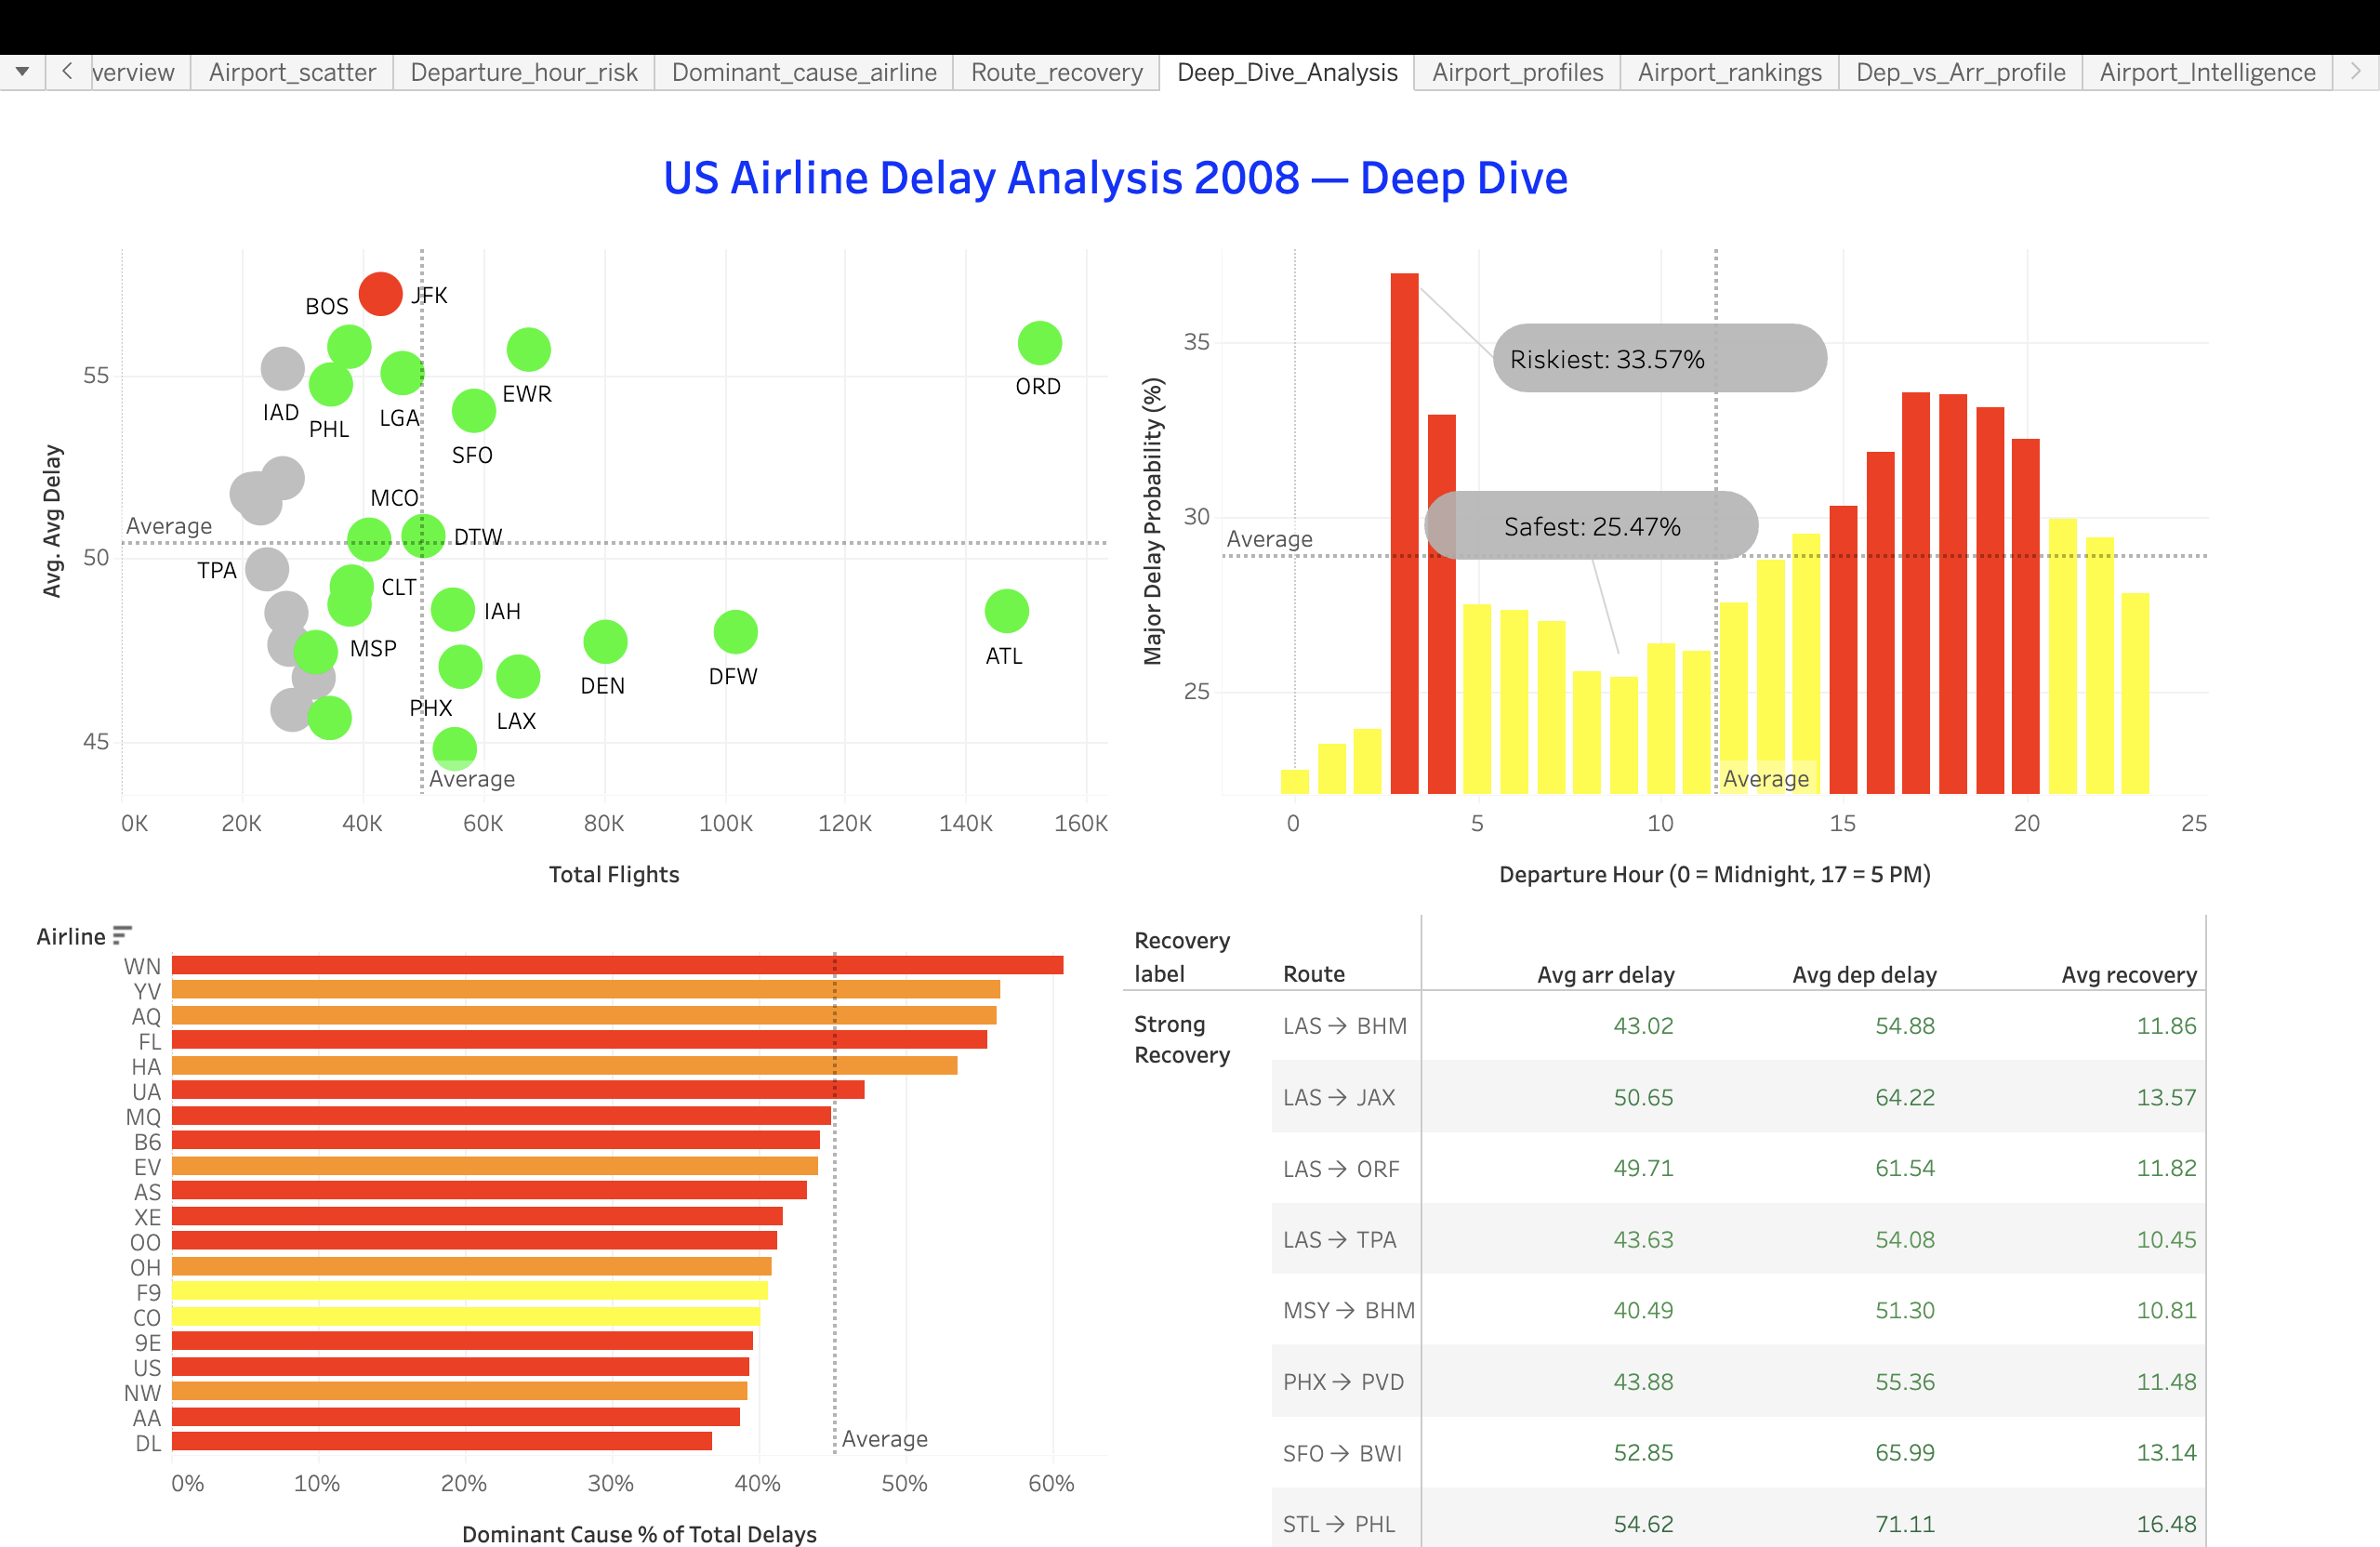

This screenshot's page, from the dashboard's own definition file:
{"tool":"tableau","page":{"name":"Deep_Dive_Analysis","canvas":[1200,800],"ordinal":1},"visuals":[{"type":"text","box":[8,8,1184,71.2]},{"type":"worksheet","title":"Airport_scatter","mark":"Circle","rows":["avg_delay"],"cols":["total_flights"],"box":[8,79.2,592,357.8]},{"type":"worksheet","title":"Departure_hour_risk","mark":"Bar","rows":["Major_Delay_Prob"],"cols":["Dep_Hour"],"box":[600,79.2,592,357.8]},{"type":"worksheet","title":"Dominant_cause_airline","mark":"Bar","rows":["Airline"],"cols":["Dominant_pct"],"box":[8,437,592,355]},{"type":"worksheet","title":"Route_recovery","mark":"Automatic","rows":["Recovery_label","Calculation_4927272073441291"],"box":[600,437,592,355]}]}

Visuals, with their boxes on the page's 1200x800 design canvas (x1, y1, x2, y2). These are canvas units, not pixel positions in the 2380x1547 screenshot, which may show the page scaled, cropped or inside an application window:
text: region(8, 8, 1192, 79)
"Airport_scatter" worksheet (Circle marks): region(8, 79, 600, 437)
"Departure_hour_risk" worksheet (Bar marks): region(600, 79, 1192, 437)
"Dominant_cause_airline" worksheet (Bar marks): region(8, 437, 600, 792)
"Route_recovery" worksheet: region(600, 437, 1192, 792)
